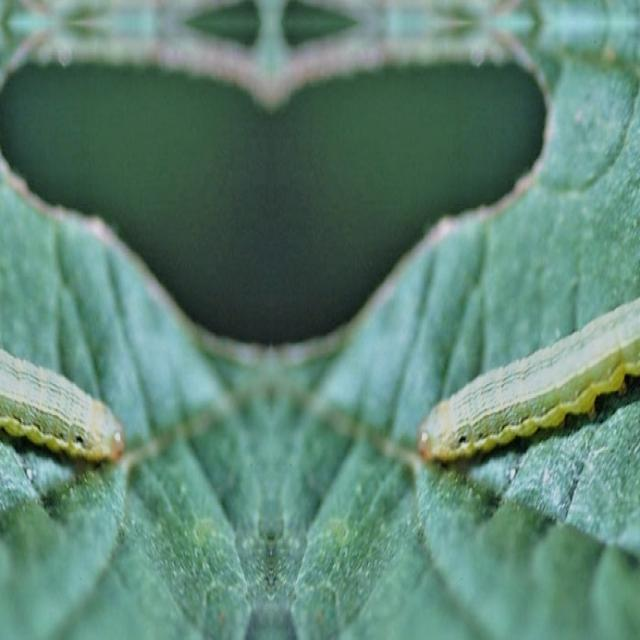armyworm: (415, 293, 638, 464), (0, 345, 125, 464)
